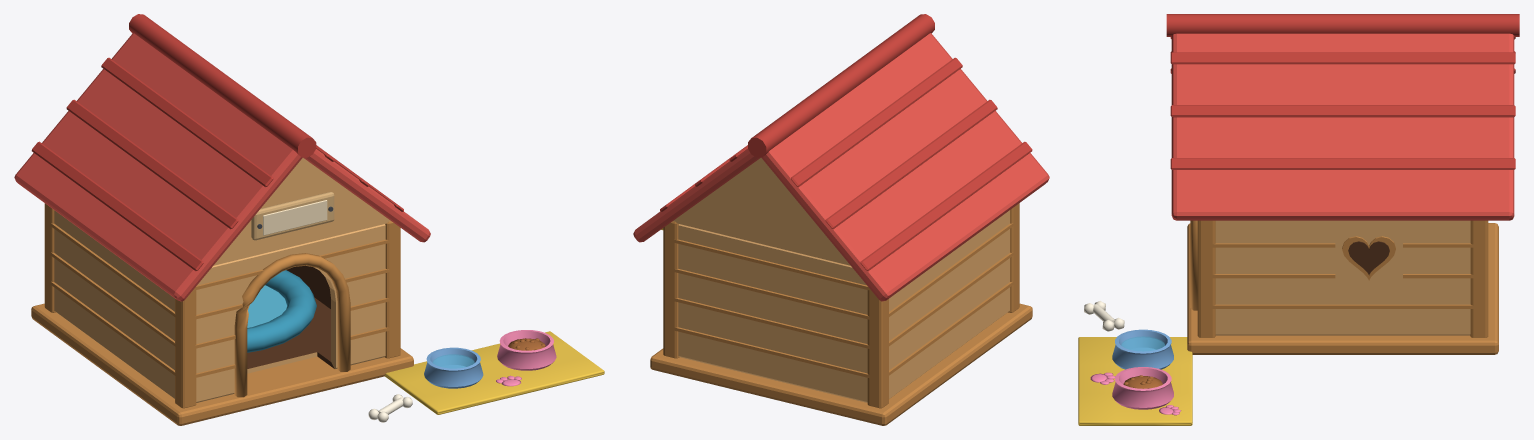
File: casinha.glb
3 renders of one model, left to right at view 1: azimuth 30°, elevation 25°; view 2: azimuth 150°, elevation 25°; view 3: azimuth 270°, elevation 25°, orthographic. The views are drawn at different scales.
Visible parts, largest first — view 1: casinha, texto, placa; view 2: casinha; view 3: casinha.
Boxes of the visible parts, left/top/right/bottom form: casinha: left=14, top=14, right=604, bottom=425; texto: left=263, top=200, right=327, bottom=235; placa: left=251, top=192, right=334, bottom=240; casinha: left=633, top=14, right=1049, bottom=425; casinha: left=1078, top=14, right=1519, bottom=425.
Bounding box in the file's own units: 1.79 × 1.2 × 1.7.
